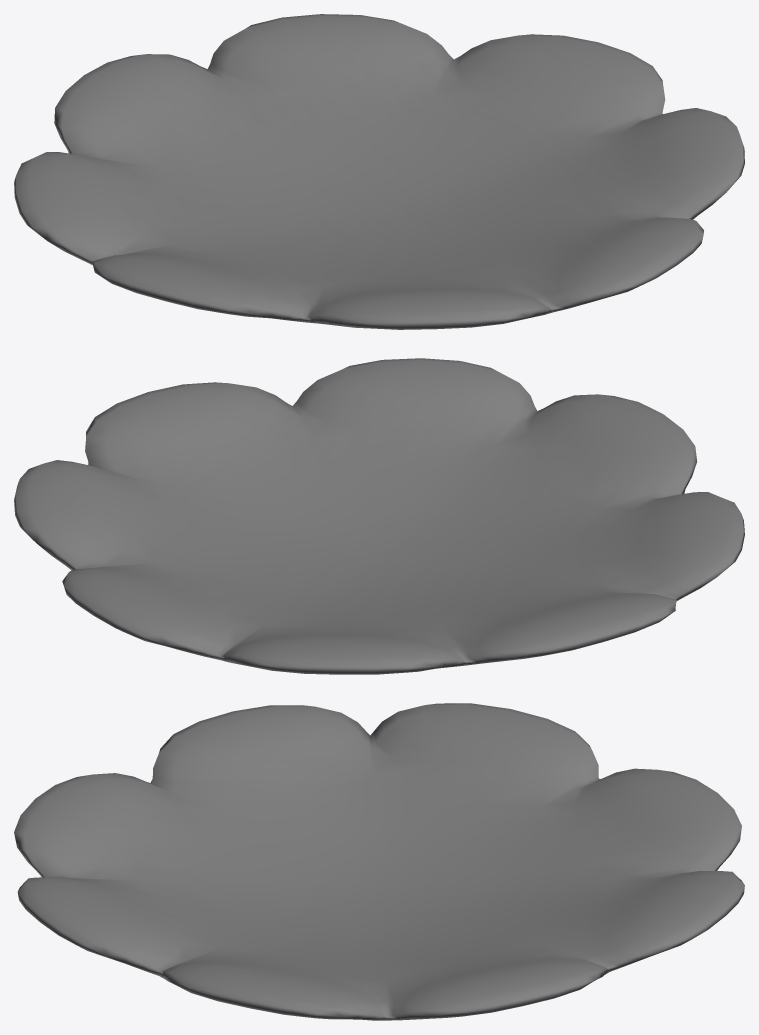
The model's file is fleur.fbx.
3 views of the same model, one above another, from view 1: azimuth 30°, elevation 25°; view 2: azimuth 150°, elevation 25°; view 3: azimuth 270°, elevation 25° (orthographic).
Parts seen in each view (by area): view 1: arbreeee.026; view 2: arbreeee.026; view 3: arbreeee.026.
Part boxes in pixels (x1=…): arbreeee.026: x1=14, y1=14, x2=744, y2=329; arbreeee.026: x1=14, y1=358, x2=744, y2=674; arbreeee.026: x1=14, y1=703, x2=744, y2=1020.
Size of the model in its own units: 42.68 by 4.33 by 42.55.
